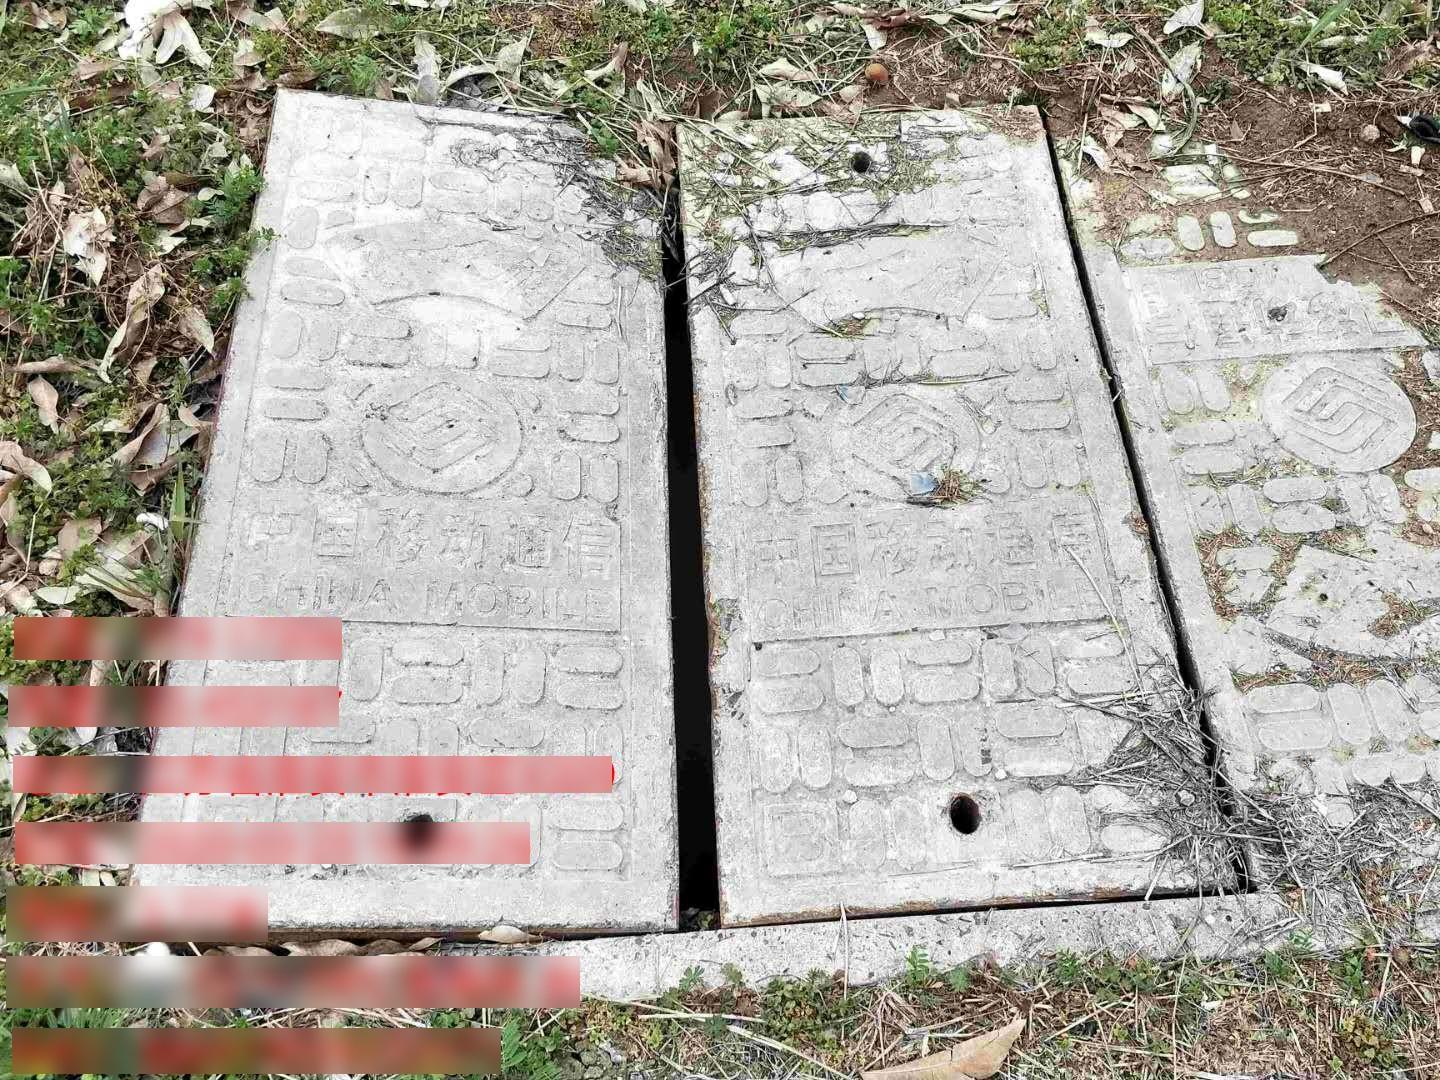wellcover: (122, 69, 1440, 976)
